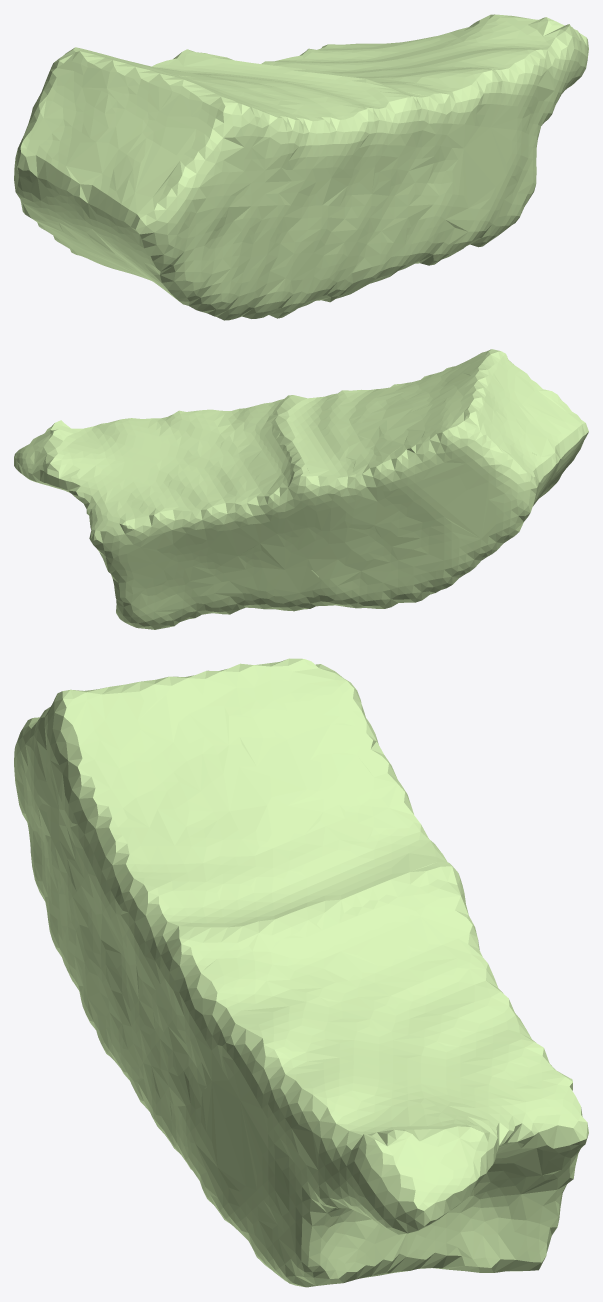
The model's file is Model_145_RH__Visual_area_3A_(dorsoanterior_area)_(V3A).obj.
3 views of the same model, one above another, from view 1: azimuth 30°, elevation 25°; view 2: azimuth 150°, elevation 25°; view 3: azimuth 270°, elevation 25° (orthographic). The views are drawn at different scales.
Size of the model in its own units: 5.57 by 2.61 by 3.42.
